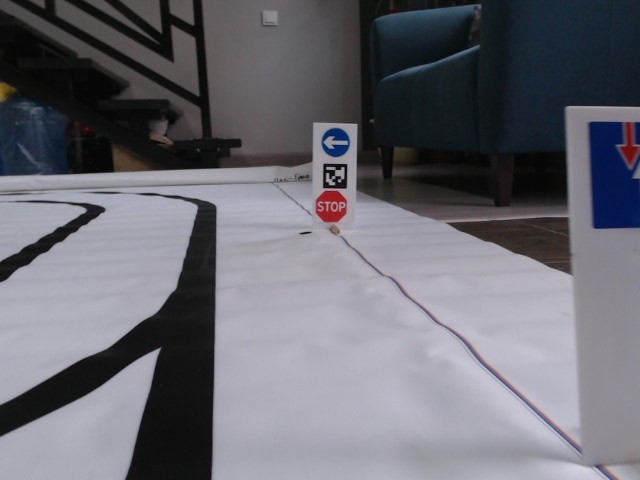Stop: (314, 190, 347, 222)
